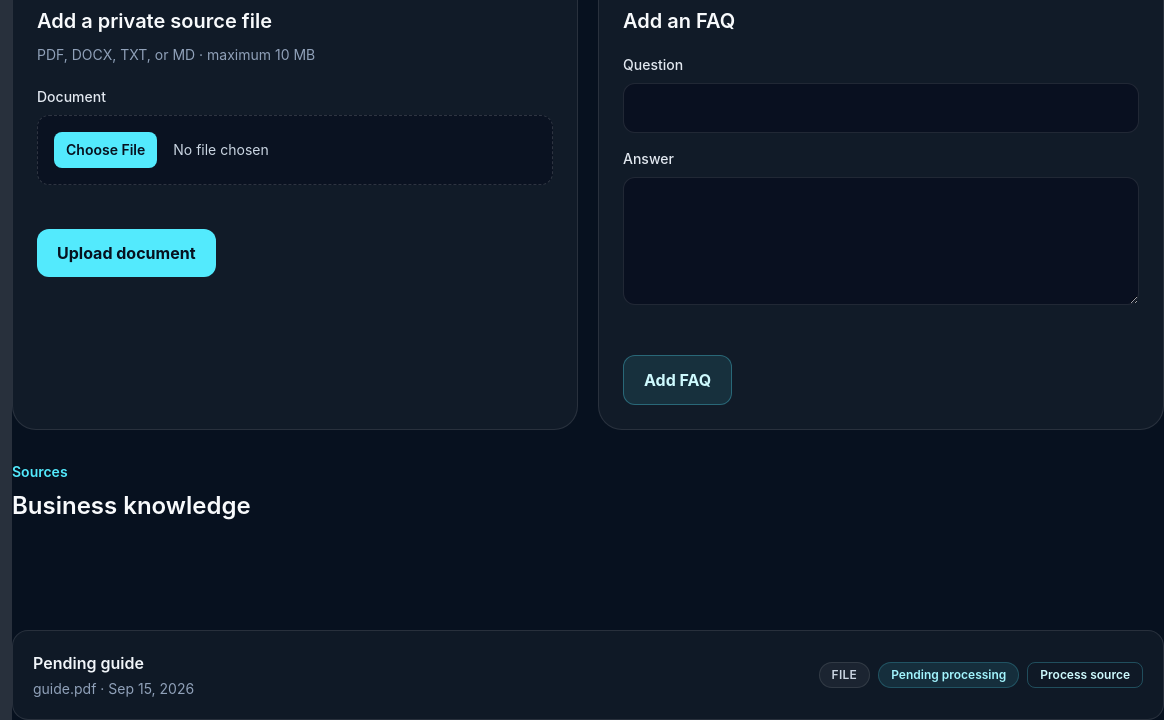
Test: KnowledgePage › disables processing actions while a request is active
This screenshot has width=1164, height=720.
(page scrolled)
Click the button "Process source": (1085, 675) [1027,662,1143,688]
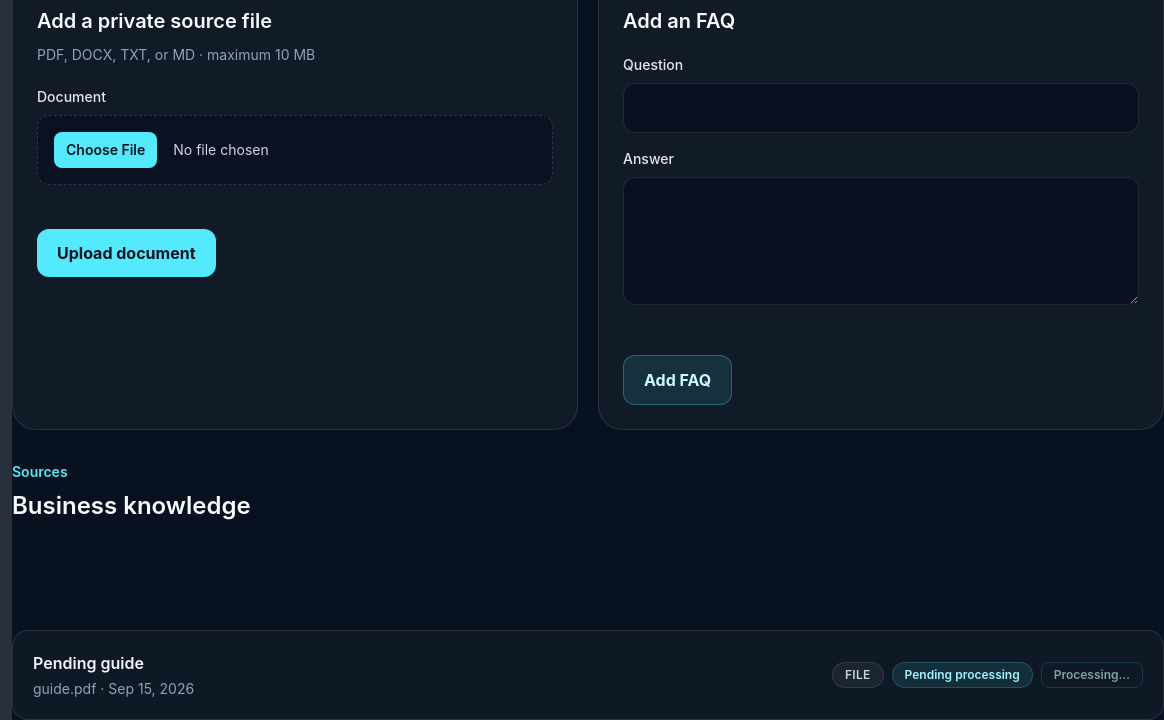
Expected: the button "Processing…" is disabled, [1041,662,1143,688]
